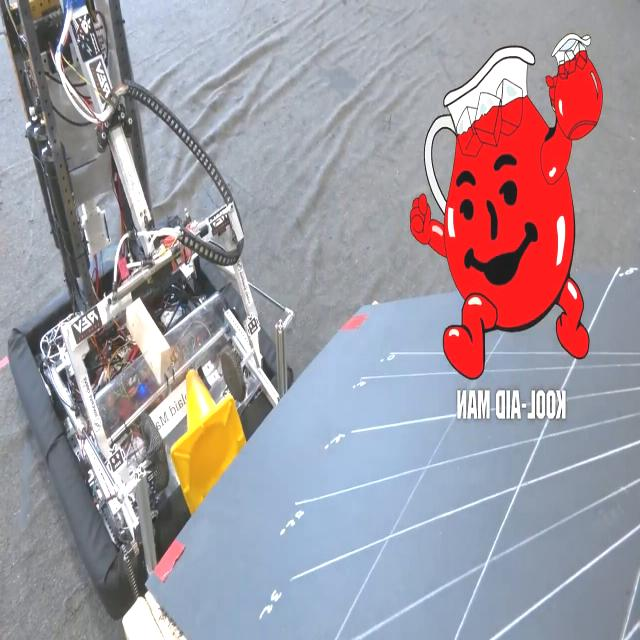frc_cone: (172, 366, 245, 512)
